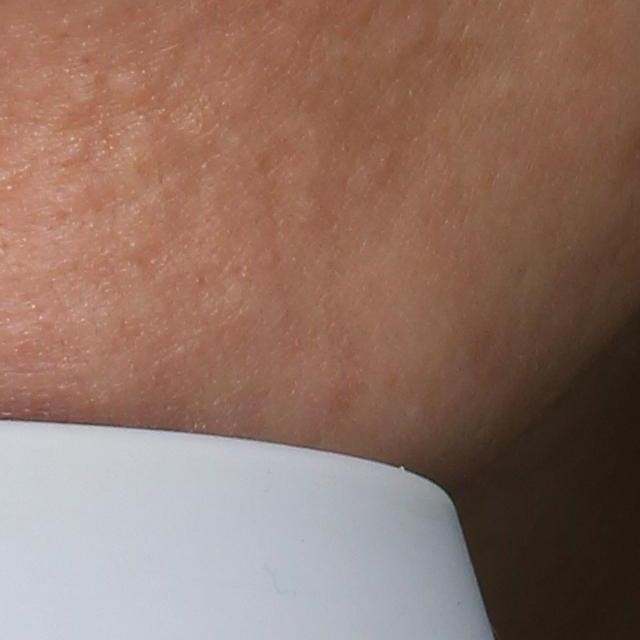hypertrophic_scar: (57, 66, 96, 109), (104, 69, 143, 107)
